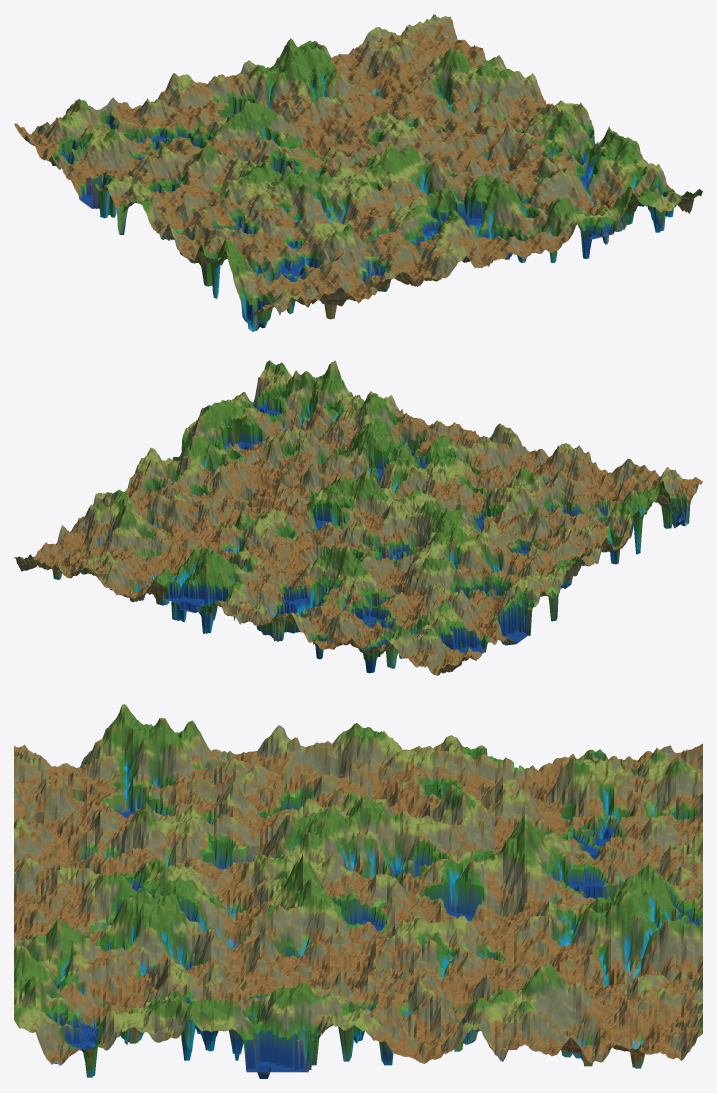
Rendered from landscape_MOUNTAIN_v2.obj.
3 views of the same model, one above another, from view 1: azimuth 30°, elevation 25°; view 2: azimuth 150°, elevation 25°; view 3: azimuth 270°, elevation 25° (orthographic). The views are drawn at different scales.
Parts seen in each view (by area): view 1: terrain_MOUNTAIN; view 2: terrain_MOUNTAIN; view 3: terrain_MOUNTAIN.
Boxes of the visible parts, <box> form: terrain_MOUNTAIN: <box>14,14,702,331</box>; terrain_MOUNTAIN: <box>14,360,702,675</box>; terrain_MOUNTAIN: <box>14,704,702,1078</box>.
Size of the model in its own units: 255 by 39.74 by 255.
1 material, 1 textured.
